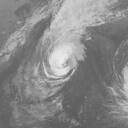cyclone: (46, 45, 79, 81)
